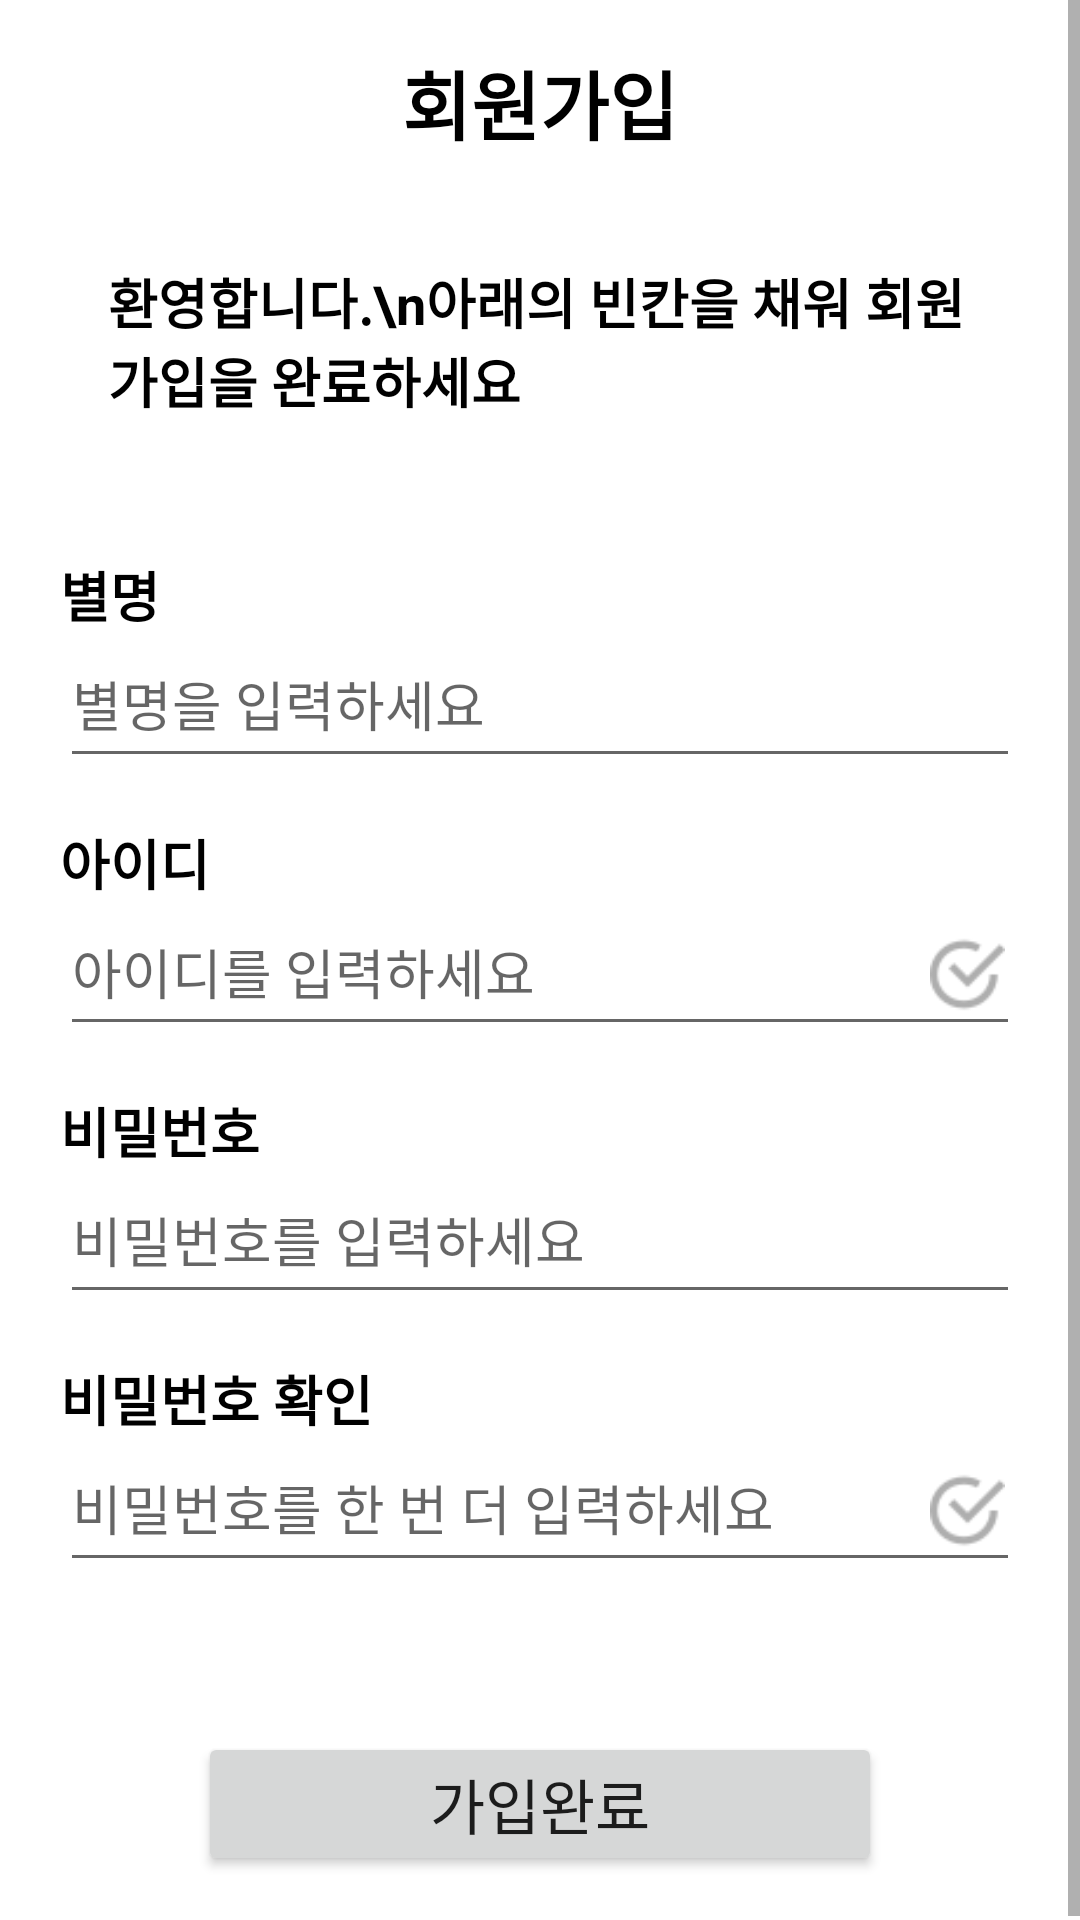

Point at icon controls on the screen. Image size 1080w x 1920h, points as point (x, y).
check: point (967, 974), point (967, 1510)
